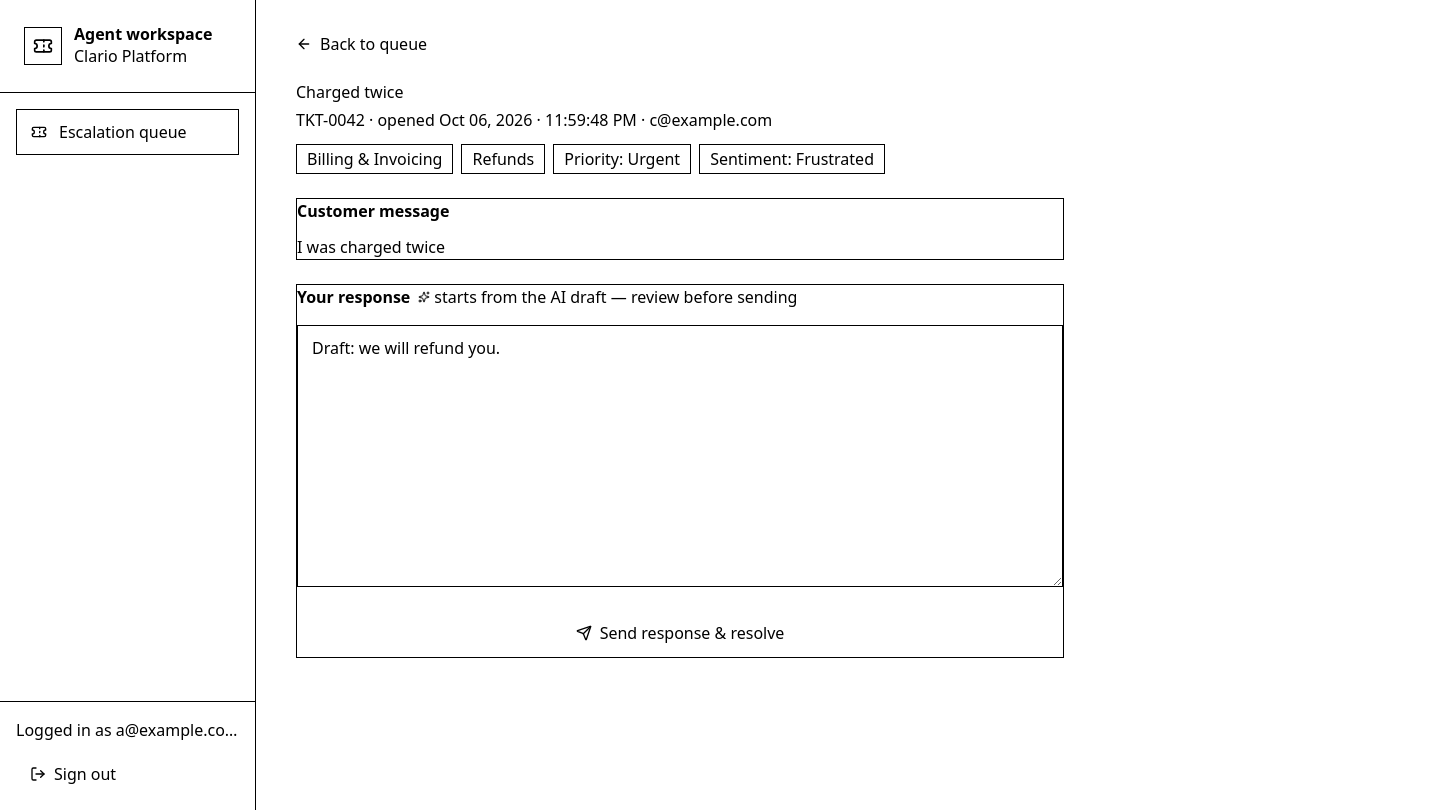
Test case: Agent ticket review page (FR-035 / FR-036) › sends the edited response through PUT /api/tickets and confirms
The width and height of the screenshot is (1440, 810).
Replace the text in the text box named "Response to the customer" with "Refund issued." at (680, 456), box x1=297 y1=325 x2=1063 y2=587
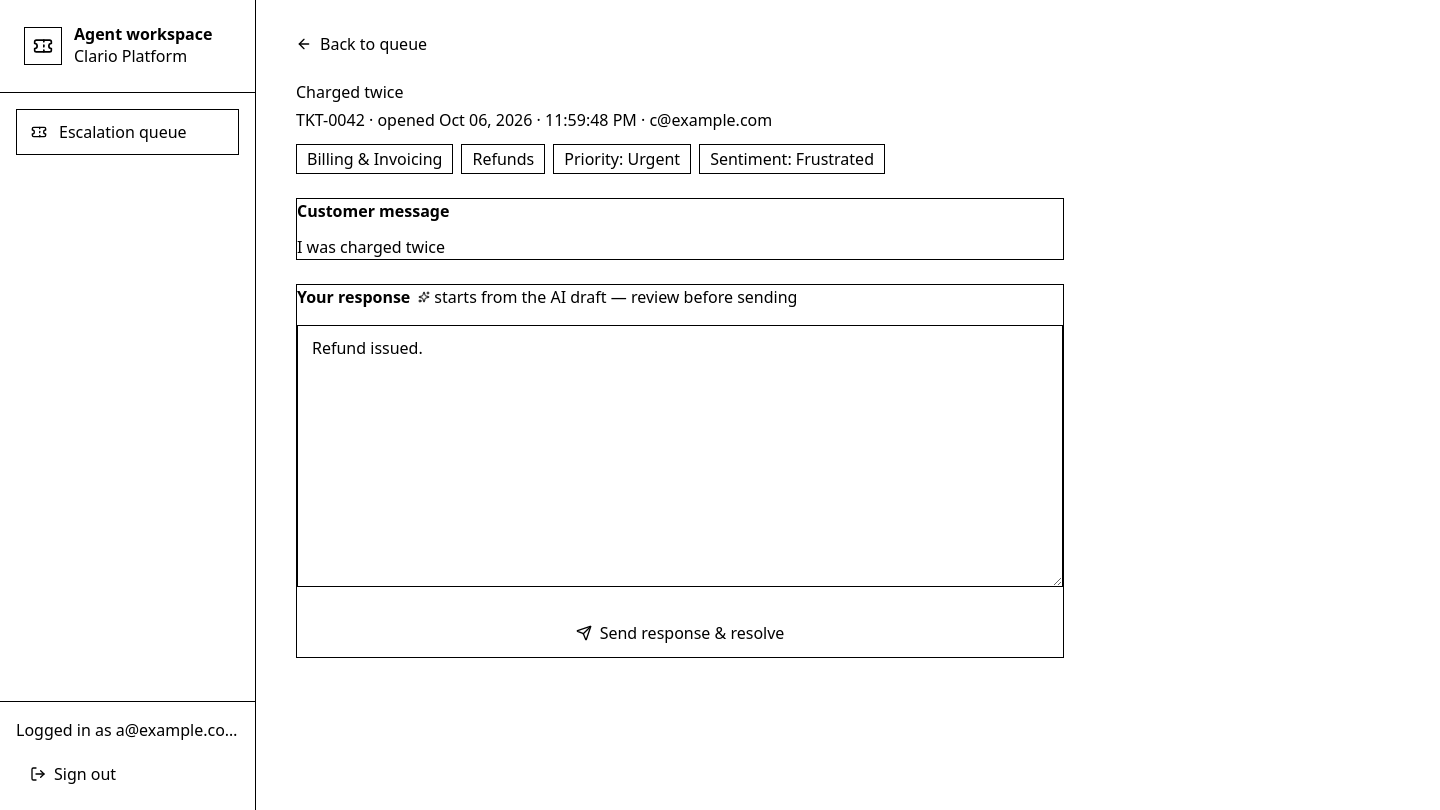
Click the button "Send response & resolve" at (680, 633), box x1=297 y1=609 x2=1063 y2=657
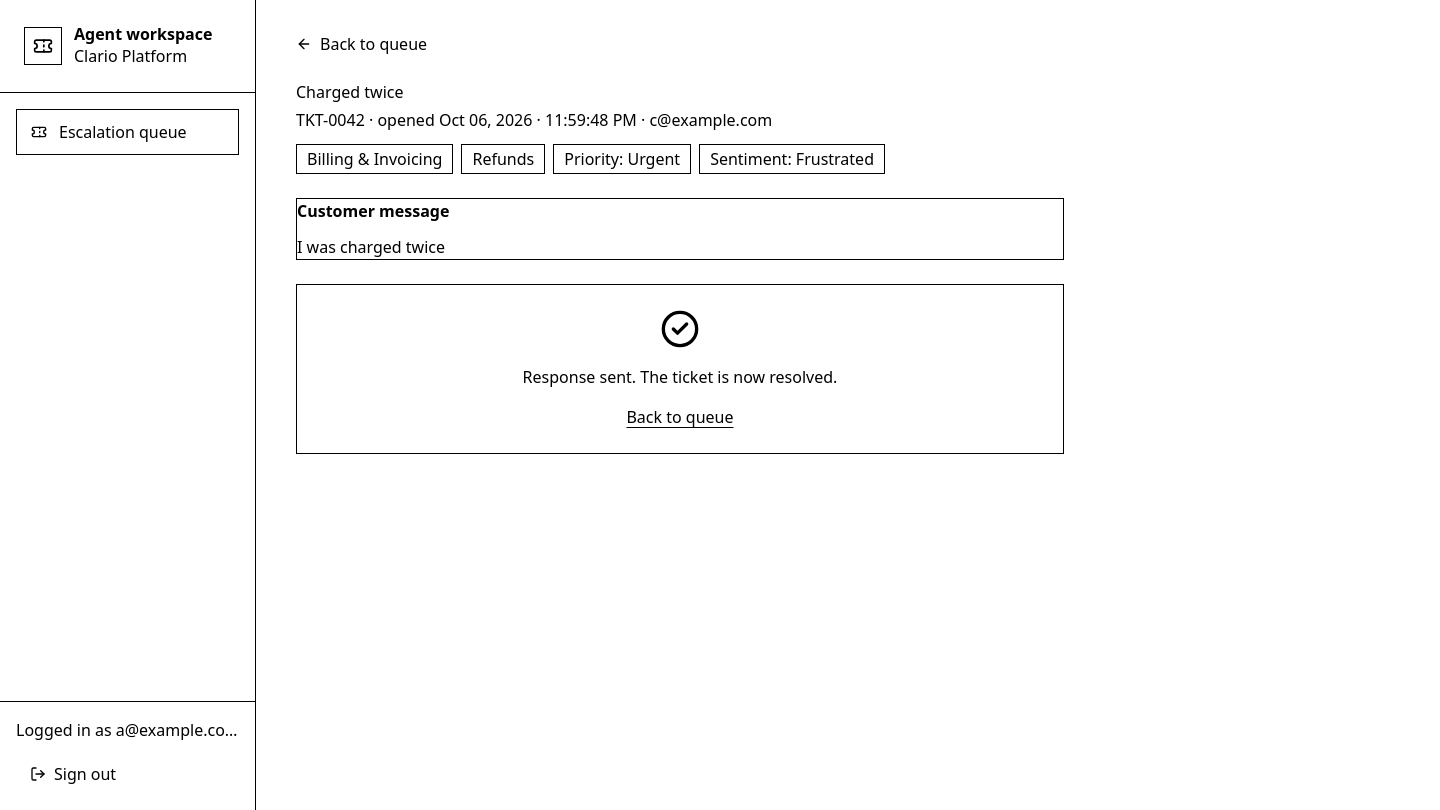
expect the text "Response sent. The ticket is now resolved." is shown: met, box x1=523 y1=366 x2=837 y2=388
